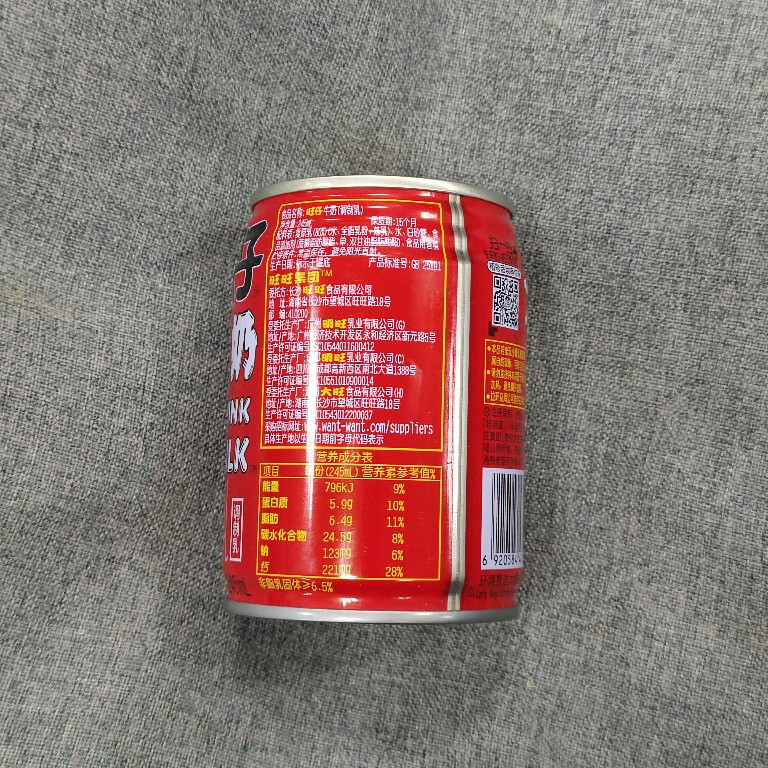can: (216, 170, 528, 627)
